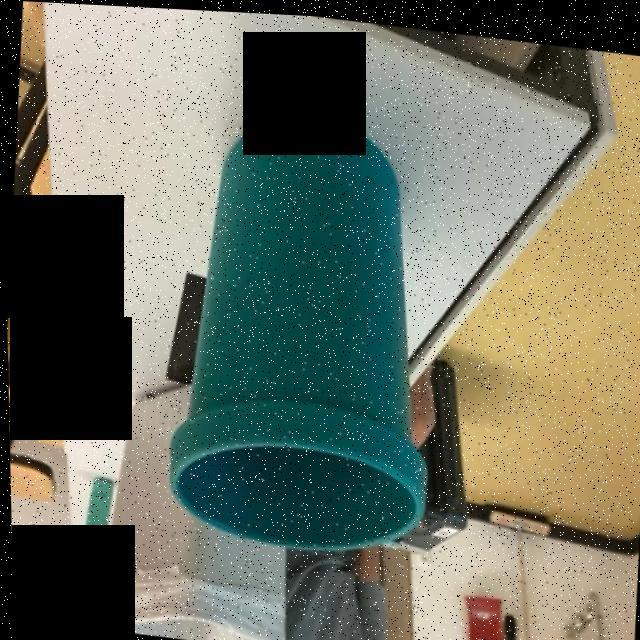bin: (148, 82, 460, 580), (87, 389, 311, 640)
